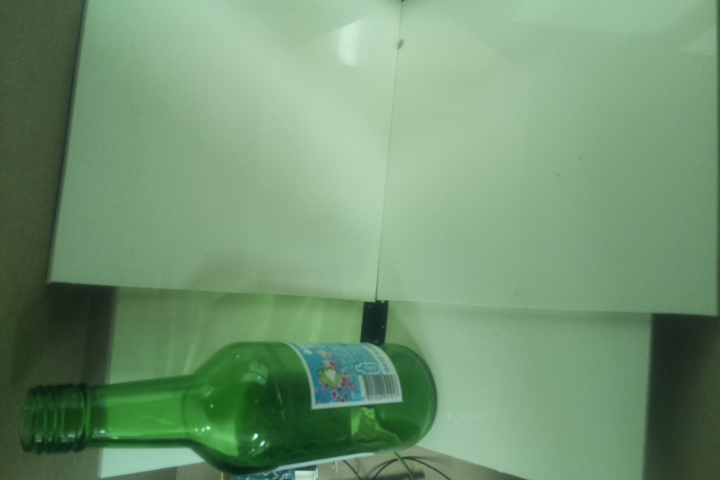soju: (18, 341, 440, 477)
